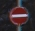No entry: (6, 5, 30, 26)
